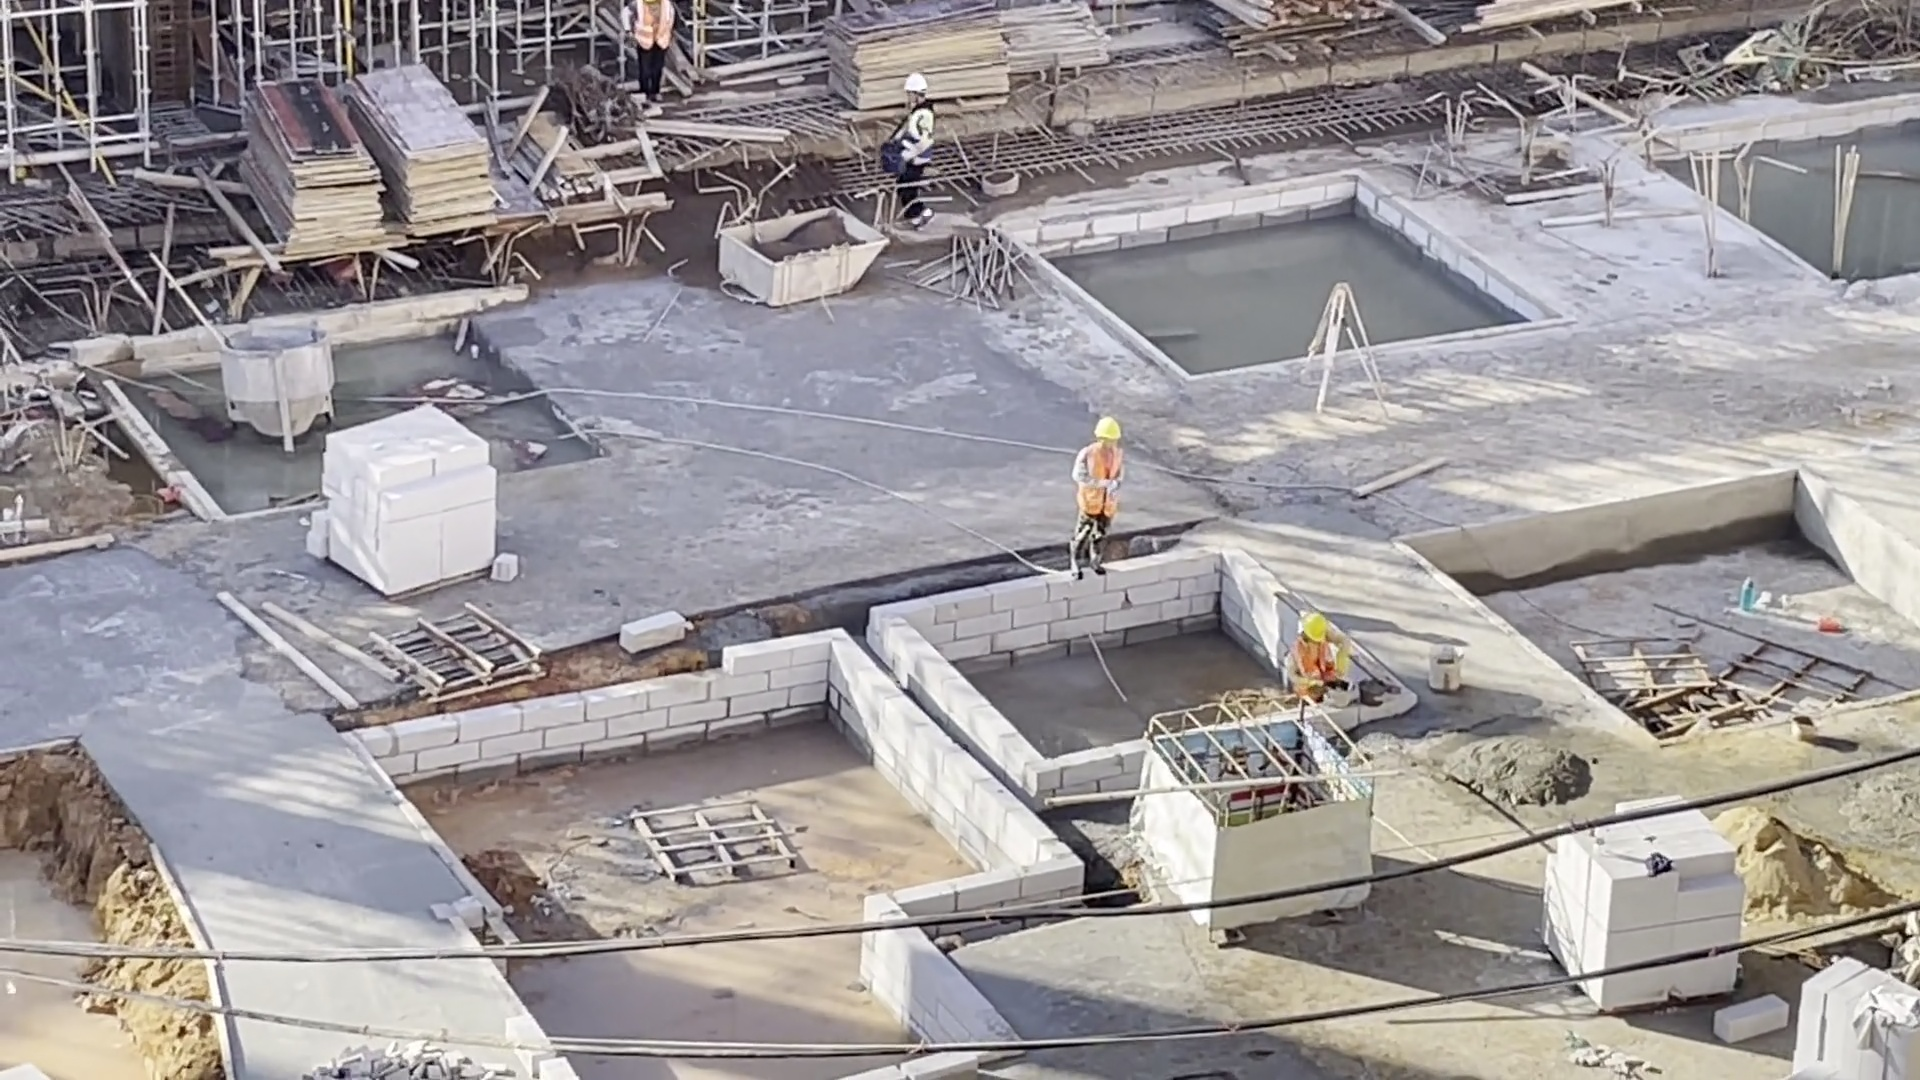board: (237, 76, 393, 263), (352, 58, 497, 242), (815, 5, 1011, 119)
brick: (305, 395, 493, 609), (1534, 843, 1743, 946), (1782, 950, 1920, 1077)
helmet: (1304, 612, 1330, 647), (1091, 415, 1122, 441), (903, 72, 929, 94)
hopper: (700, 201, 889, 306), (217, 311, 334, 453)
person: (1070, 406, 1129, 582), (884, 67, 941, 235), (617, 1, 682, 108), (1284, 608, 1354, 705)
vest: (1076, 444, 1121, 517), (1291, 638, 1336, 698), (631, 2, 675, 50), (904, 106, 936, 170)
wood: (1210, 1, 1406, 30)
